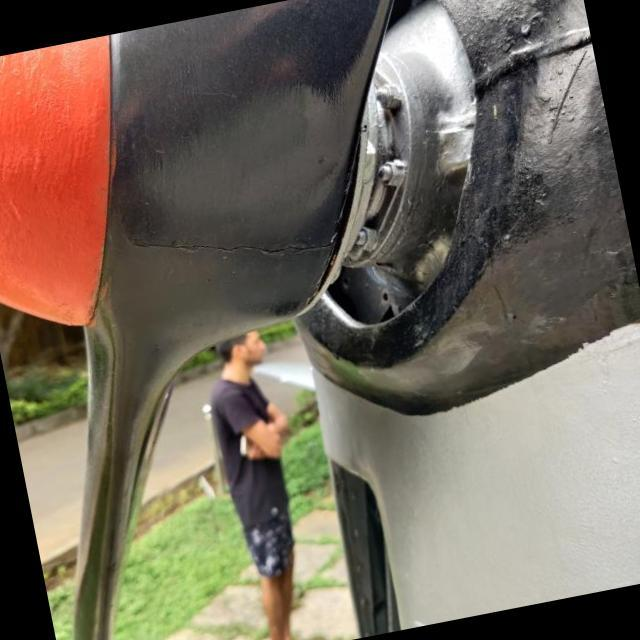Rupture: (109, 172, 346, 306)
